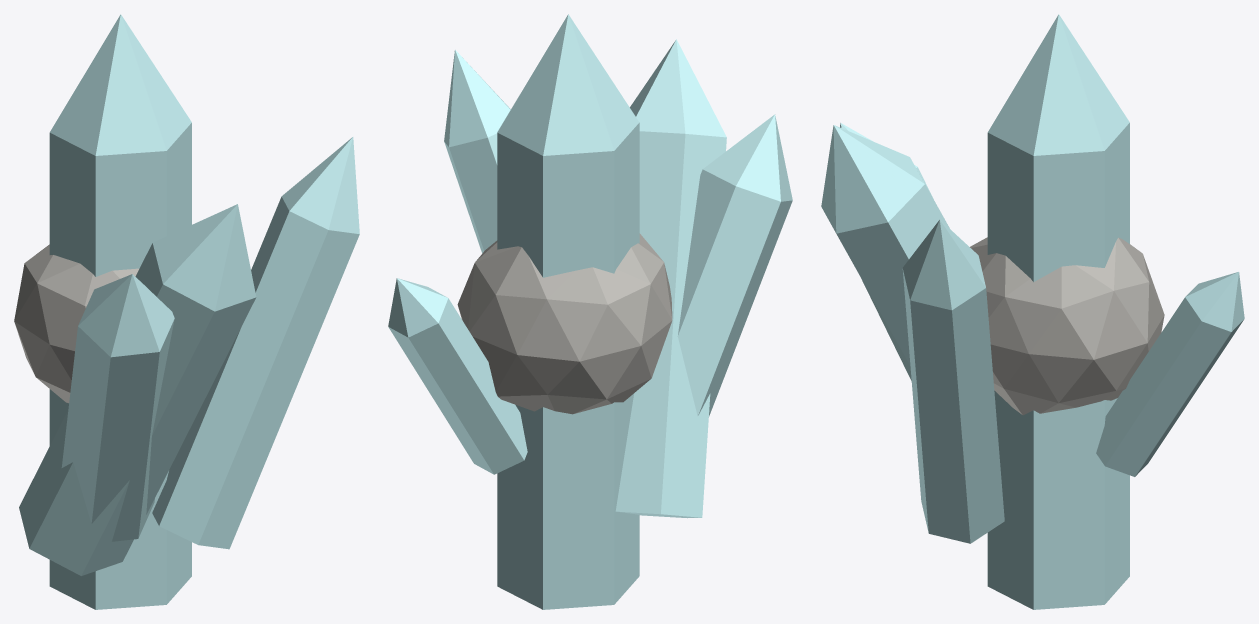
Rendered from crystal_small.glb.
The picture shows the model from 3 angles, left to right: view 1: azimuth 30°, elevation 25°; view 2: azimuth 150°, elevation 25°; view 3: azimuth 270°, elevation 25°; orthographic projection.
Parts seen in each view (by area): view 1: crystal_small; view 2: crystal_small; view 3: crystal_small.
Boxes of the visible parts, <box> form: crystal_small: <box>14,14,359,609</box>; crystal_small: <box>388,14,792,609</box>; crystal_small: <box>821,14,1244,609</box>.
Bounding box in the file's own units: 0.7887 × 1.4 × 0.9469.
